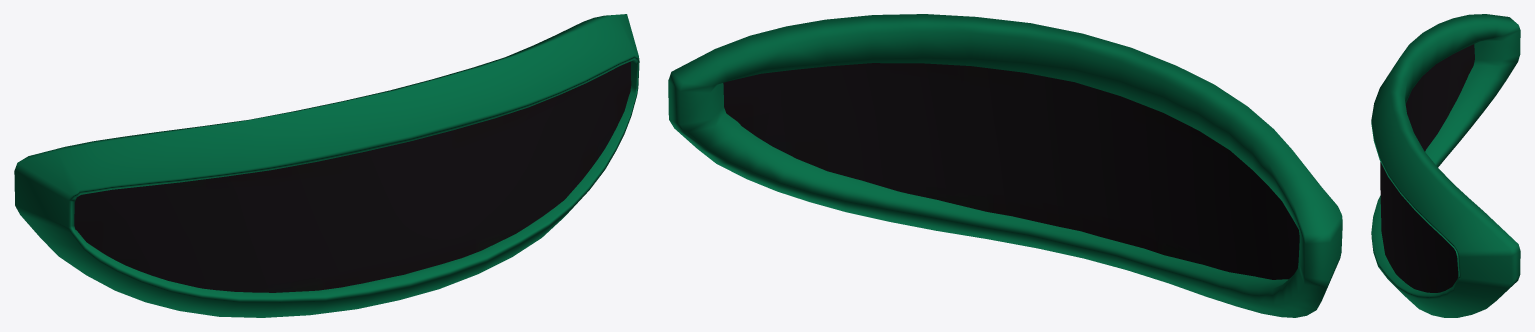
The model's file is AccessoryGlassCyber4.glb.
The picture shows the model from 3 angles, left to right: view 1: azimuth 30°, elevation 25°; view 2: azimuth 150°, elevation 25°; view 3: azimuth 270°, elevation 25°; orthographic projection. The views are drawn at different scales.
Visible parts, largest first — view 1: Accessory__mAccessory; view 2: Accessory__mAccessory; view 3: Accessory__mAccessory.
Boxes of the visible parts, left/top/right/bottom form: Accessory__mAccessory: left=14, top=14, right=639, bottom=317; Accessory__mAccessory: left=668, top=14, right=1342, bottom=317; Accessory__mAccessory: left=1371, top=14, right=1520, bottom=317.
Bounding box in the file's own units: 6.63 × 2.16 × 1.79.
Materials: 1 (1 with a texture image).
